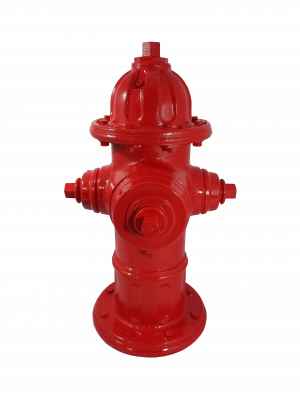FireHydrant: (47, 35, 240, 361)
